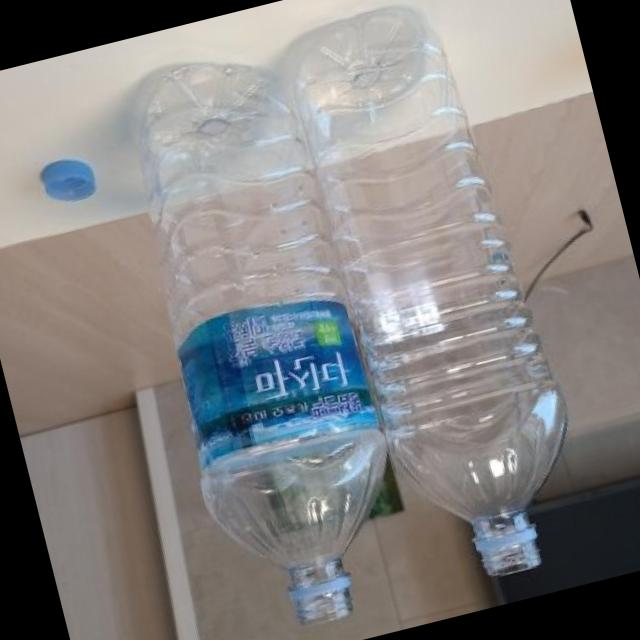plastic_bottle: (100, 40, 425, 640), (272, 0, 597, 597)
